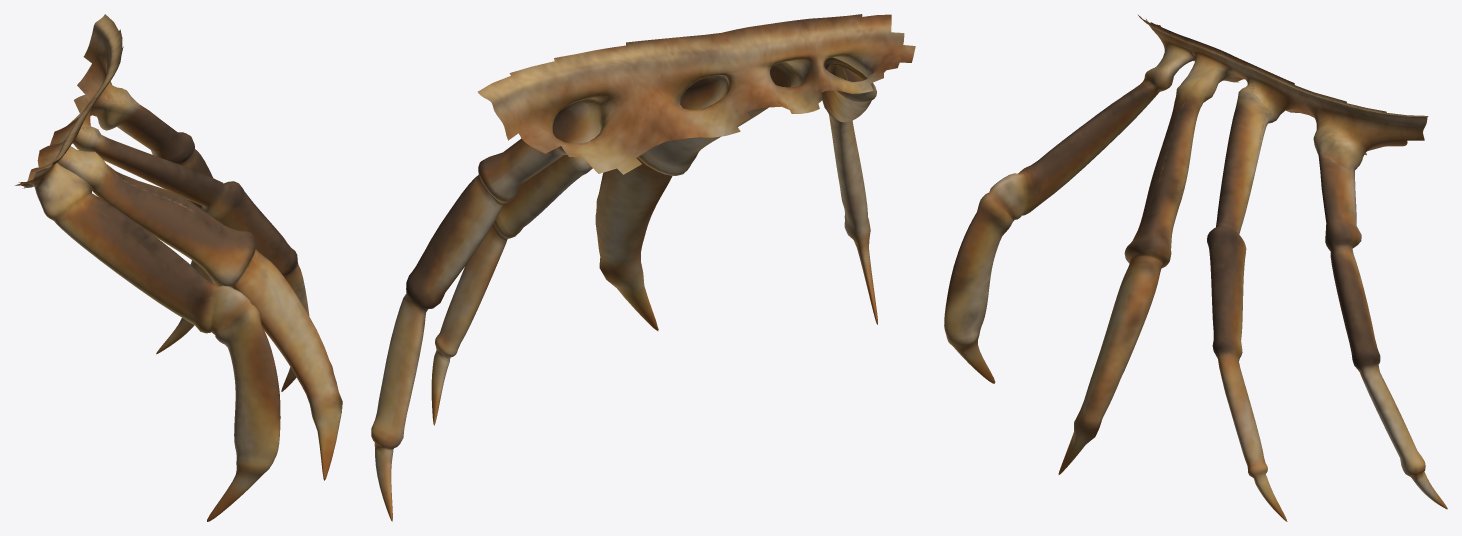
The model's file is patasizq.obj.
The picture shows the model from 3 angles, left to right: view 1: azimuth 30°, elevation 25°; view 2: azimuth 150°, elevation 25°; view 3: azimuth 270°, elevation 25°; orthographic projection. The views are drawn at different scales.
Parts seen in each view (by area): view 1: Crab_Obj_crab_01; view 2: Crab_Obj_crab_01; view 3: Crab_Obj_crab_01.
Part boxes in pixels (x1,y1,x2,y2): Crab_Obj_crab_01: (15, 14, 342, 521); Crab_Obj_crab_01: (371, 14, 915, 521); Crab_Obj_crab_01: (944, 15, 1447, 521).
Bounding box in the file's own units: 5.39 × 5.52 × 6.79.
Materials: 1 (1 with a texture image).
